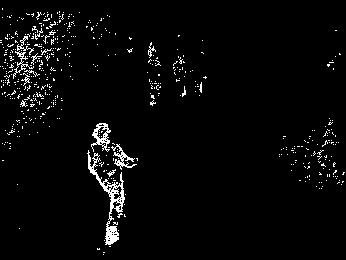person: (88, 121, 139, 246)
